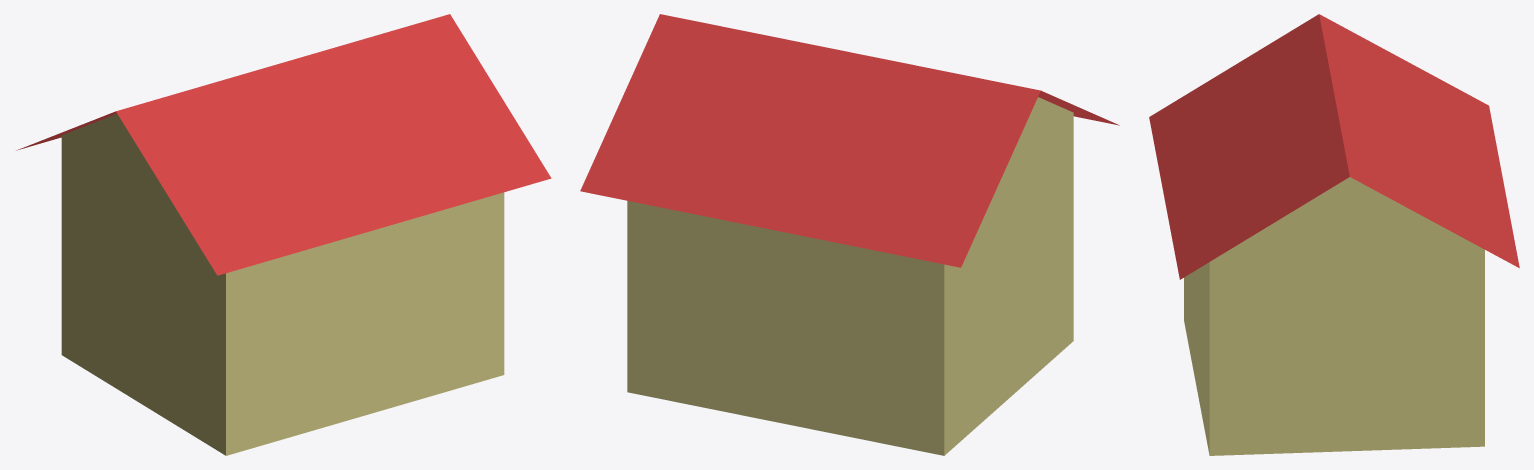
3 renders of one model, left to right at view 1: azimuth 30°, elevation 25°; view 2: azimuth 150°, elevation 25°; view 3: azimuth 270°, elevation 25°, orthographic. The views are drawn at different scales.
Bounding box in the file's own units: 12.74 × 11.45 × 9.82.
